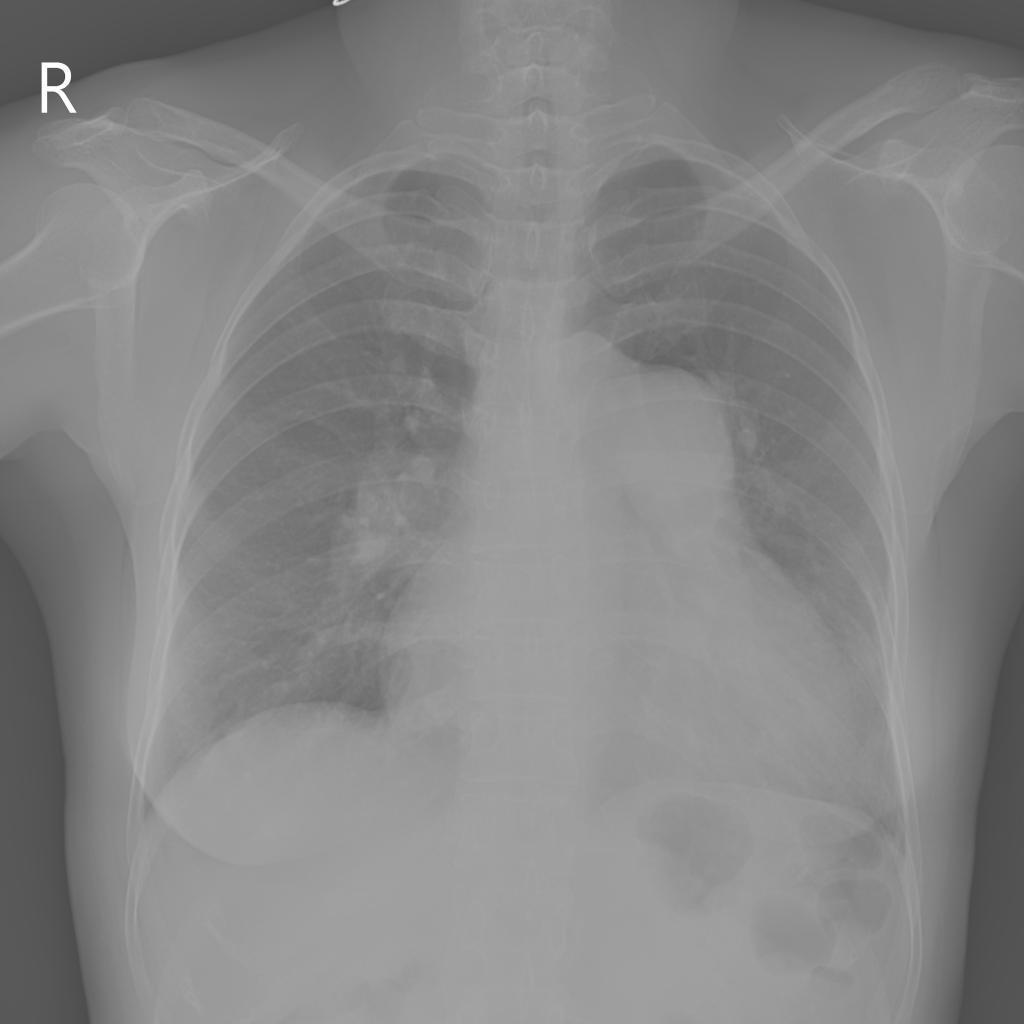Nodule: (615, 359, 738, 534)
